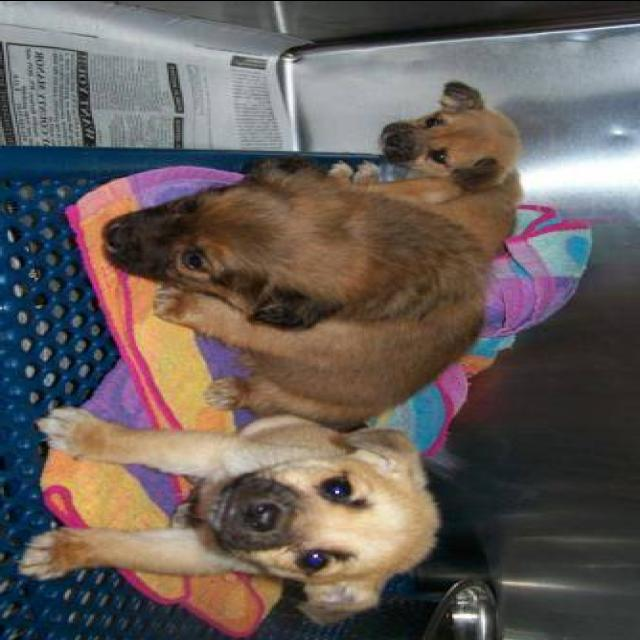dog: (8, 412, 476, 630)
